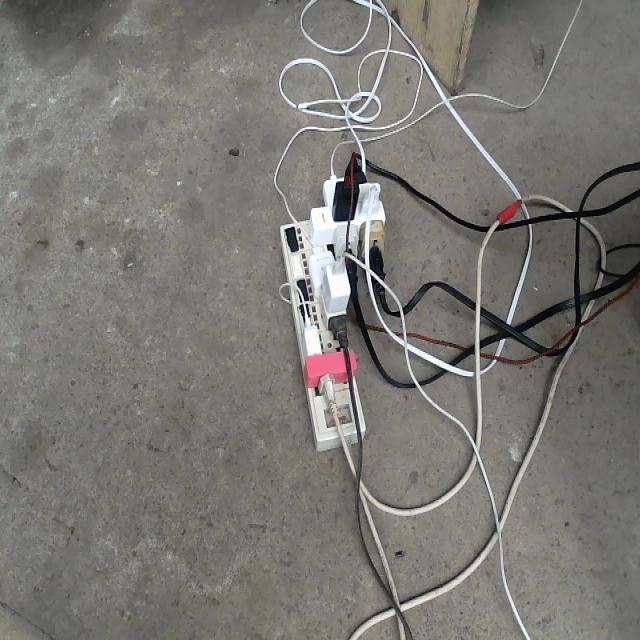-: (280, 152, 387, 448)
